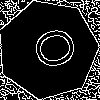O: (23, 24, 79, 75)
